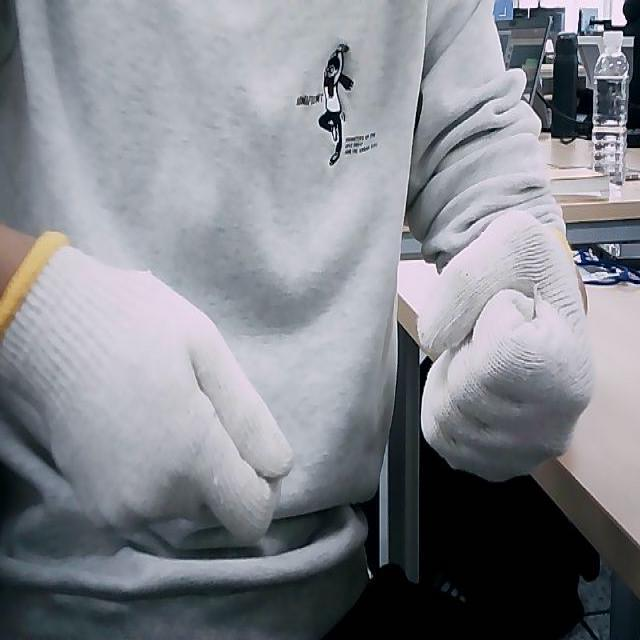GLOVE: (0, 230, 296, 543), (416, 208, 596, 482)
